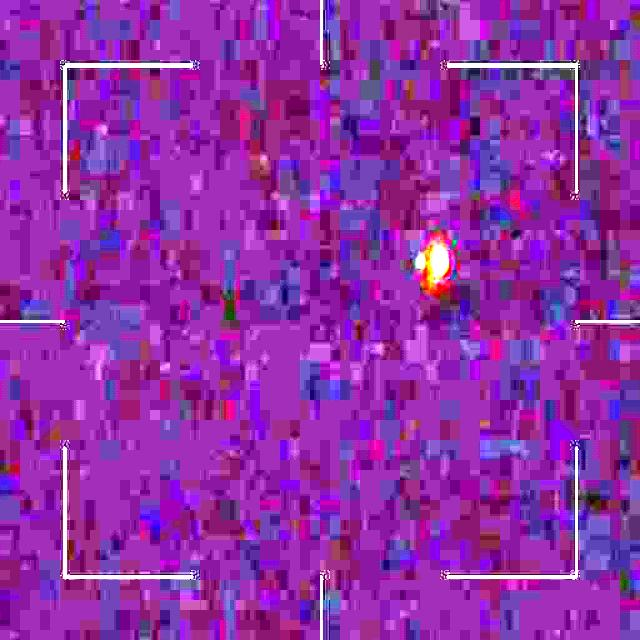bird: (416, 244, 449, 294)
